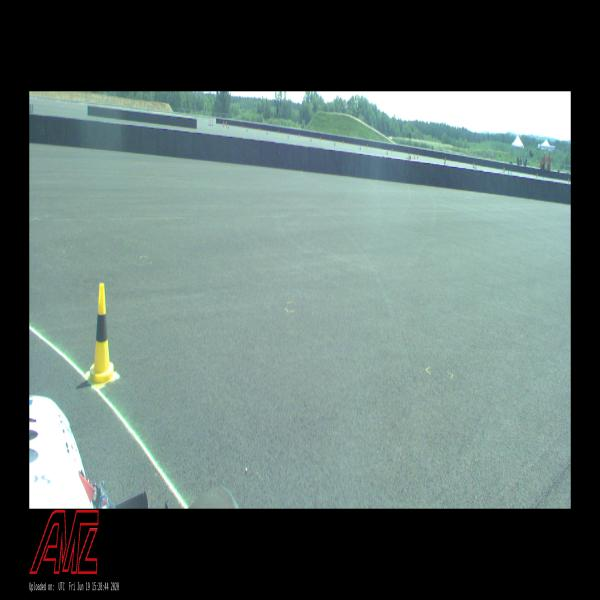yellow_cone: (88, 283, 117, 386)
